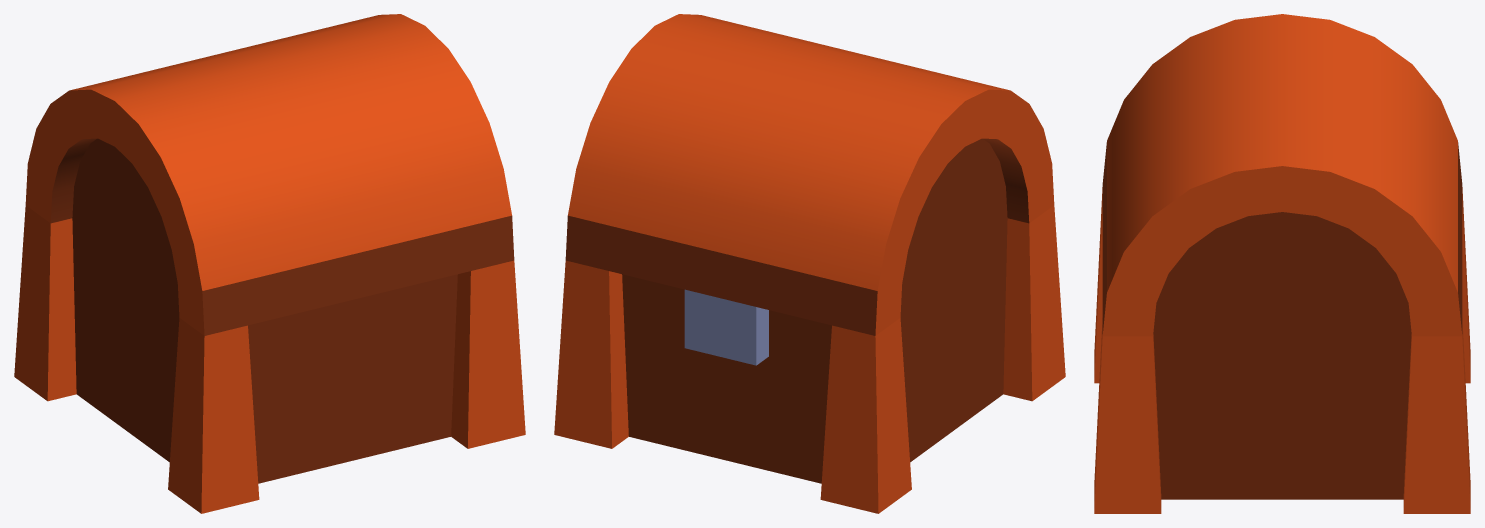
File: chest.obj
3 renders of one model, left to right at view 1: azimuth 30°, elevation 25°; view 2: azimuth 150°, elevation 25°; view 3: azimuth 270°, elevation 25°, orthographic.
Parts seen in each view (by area): view 1: lid, chest; view 2: lid, chest; view 3: lid, chest.
Boxes of the visible parts, <box> form: lid: <box>25,14,514,335</box>; chest: <box>14,205,525,513</box>; lid: <box>565,14,1054,335</box>; chest: <box>554,205,1065,513</box>; lid: <box>1102,14,1462,336</box>; chest: <box>1094,187,1470,513</box>.
Bounding box in the file's own units: 0.2604 × 0.2628 × 0.2604.
